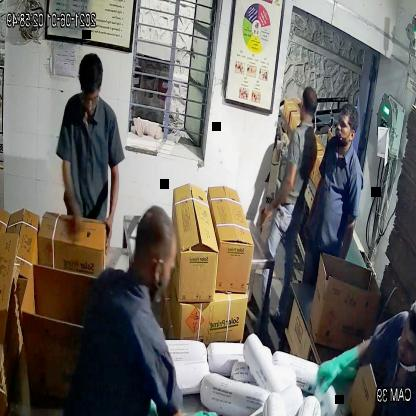goggles: (79, 86, 103, 114)
